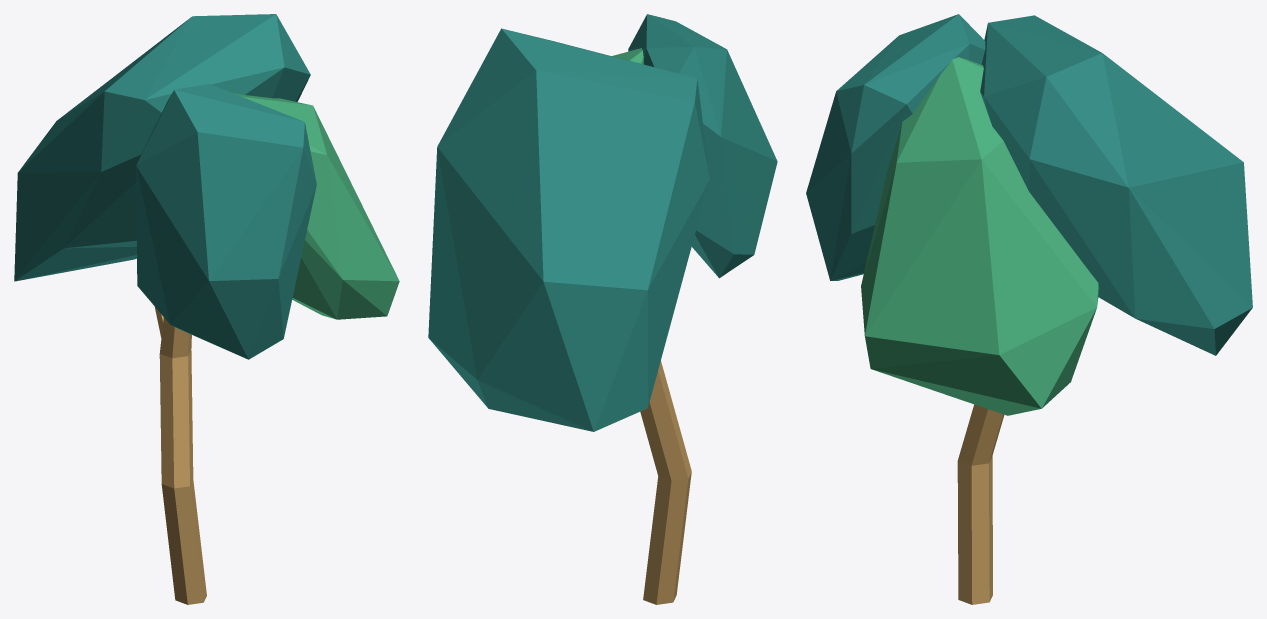
Rendered from Tree_Type3_1.fbx.
3 views of the same model, side by side, from view 1: azimuth 30°, elevation 25°; view 2: azimuth 150°, elevation 25°; view 3: azimuth 270°, elevation 25° (orthographic). The views are drawn at different scales.
Visible parts, largest first — view 1: Tree_Type3_1; view 2: Tree_Type3_1; view 3: Tree_Type3_1.
Boxes of the visible parts, <box> form: Tree_Type3_1: <box>14,14,399,604</box>; Tree_Type3_1: <box>428,14,777,604</box>; Tree_Type3_1: <box>806,14,1252,604</box>.
Bounding box in the file's own units: 118 × 219 × 152.
